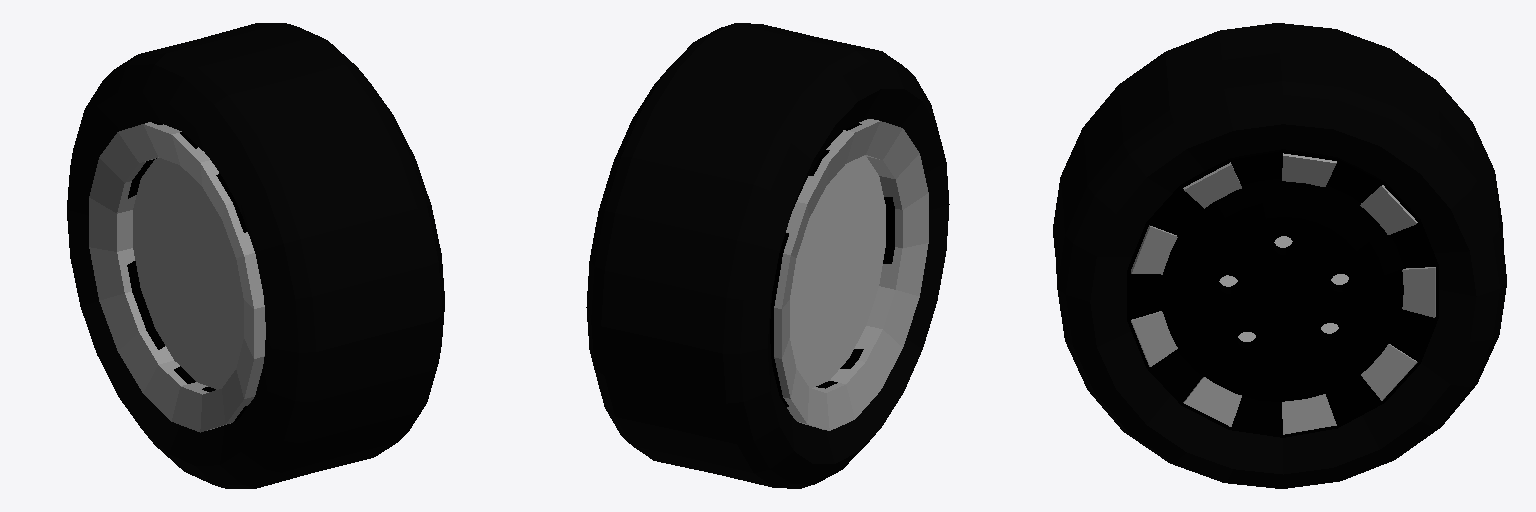
File: Llanta2.obj
3 renders of one model, left to right at view 1: azimuth 30°, elevation 25°; view 2: azimuth 150°, elevation 25°; view 3: azimuth 270°, elevation 25°, orthographic.
Visible parts, largest first — view 1: Llanta2; view 2: Llanta2; view 3: Llanta2.
Part boxes in pixels (x1,y1,x2,y2): Llanta2: (67, 23, 444, 488); Llanta2: (586, 23, 949, 488); Llanta2: (1053, 23, 1506, 488).
Bounding box in the file's own units: 2.32 × 4.8 × 4.85.